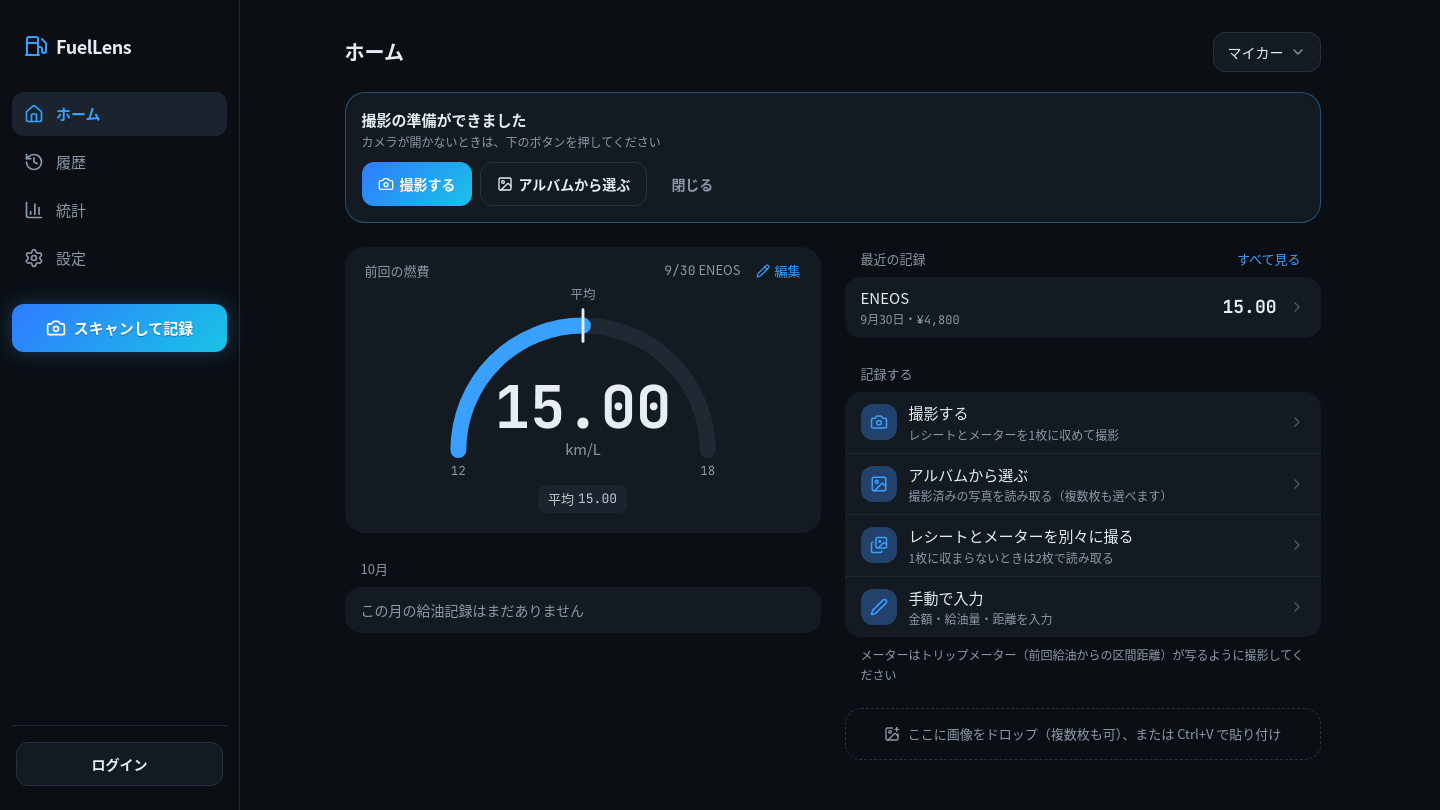
ホーム（/app）のスキャンの入口 › ?action=scan で来たら撮影を試し、「撮影の準備ができました」の案内を出す（ボタンでもう一度開ける・閉じられる）
Click the button "撮影する".
click(416, 184)  # box [362, 162, 472, 206]
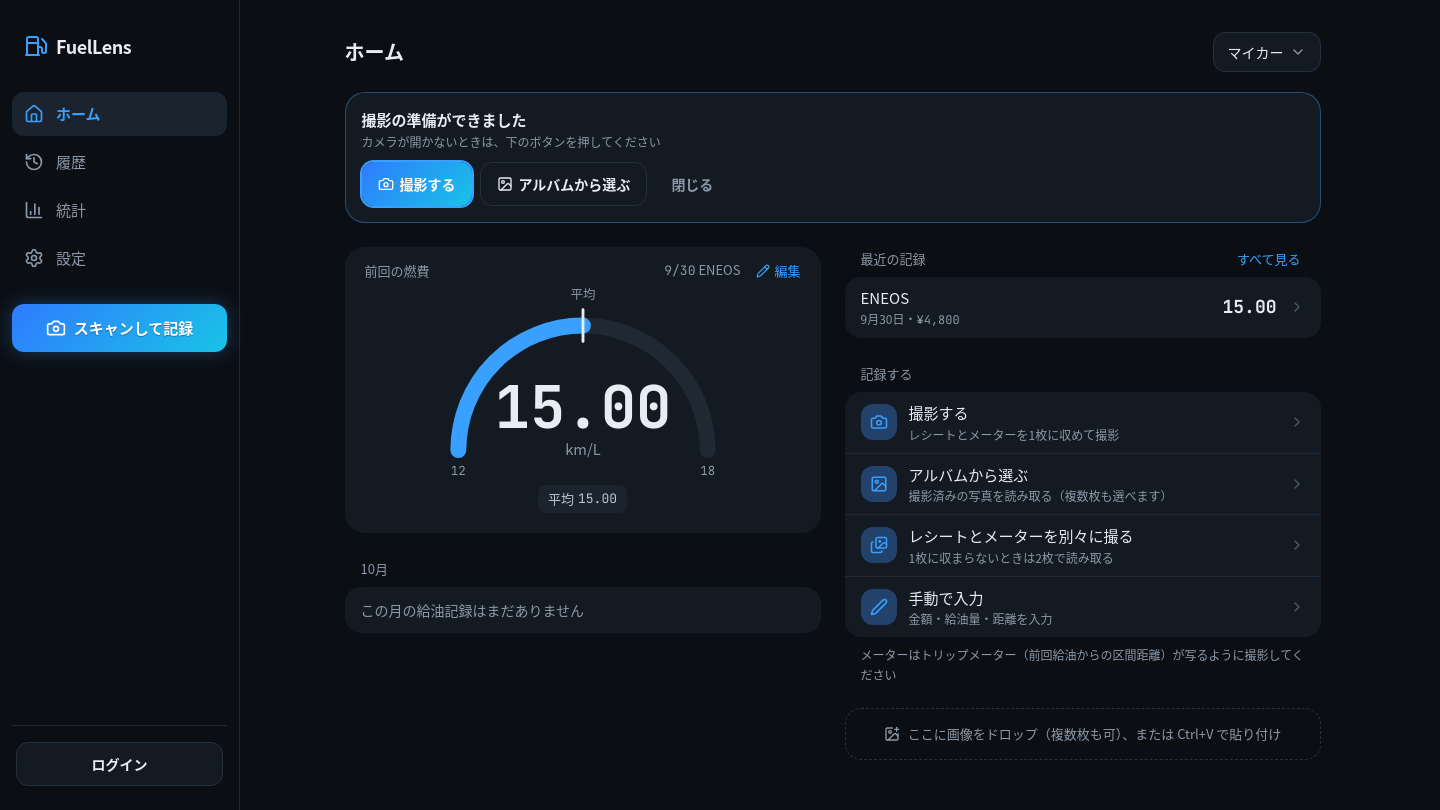
Click the button "アルバムから選ぶ".
click(563, 184)  # box [480, 162, 647, 206]
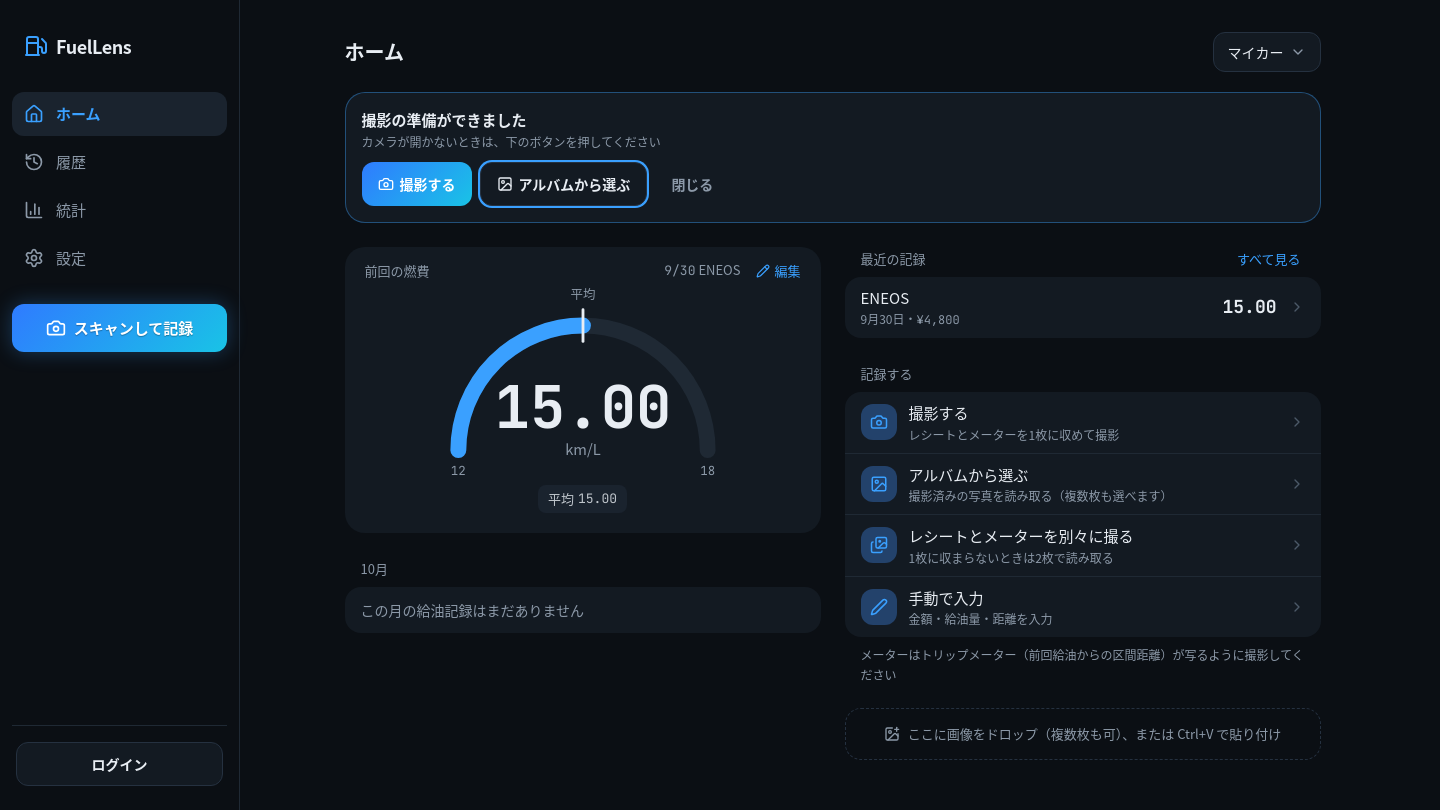
Click the button "閉じる".
click(692, 184)  # box [655, 162, 729, 206]
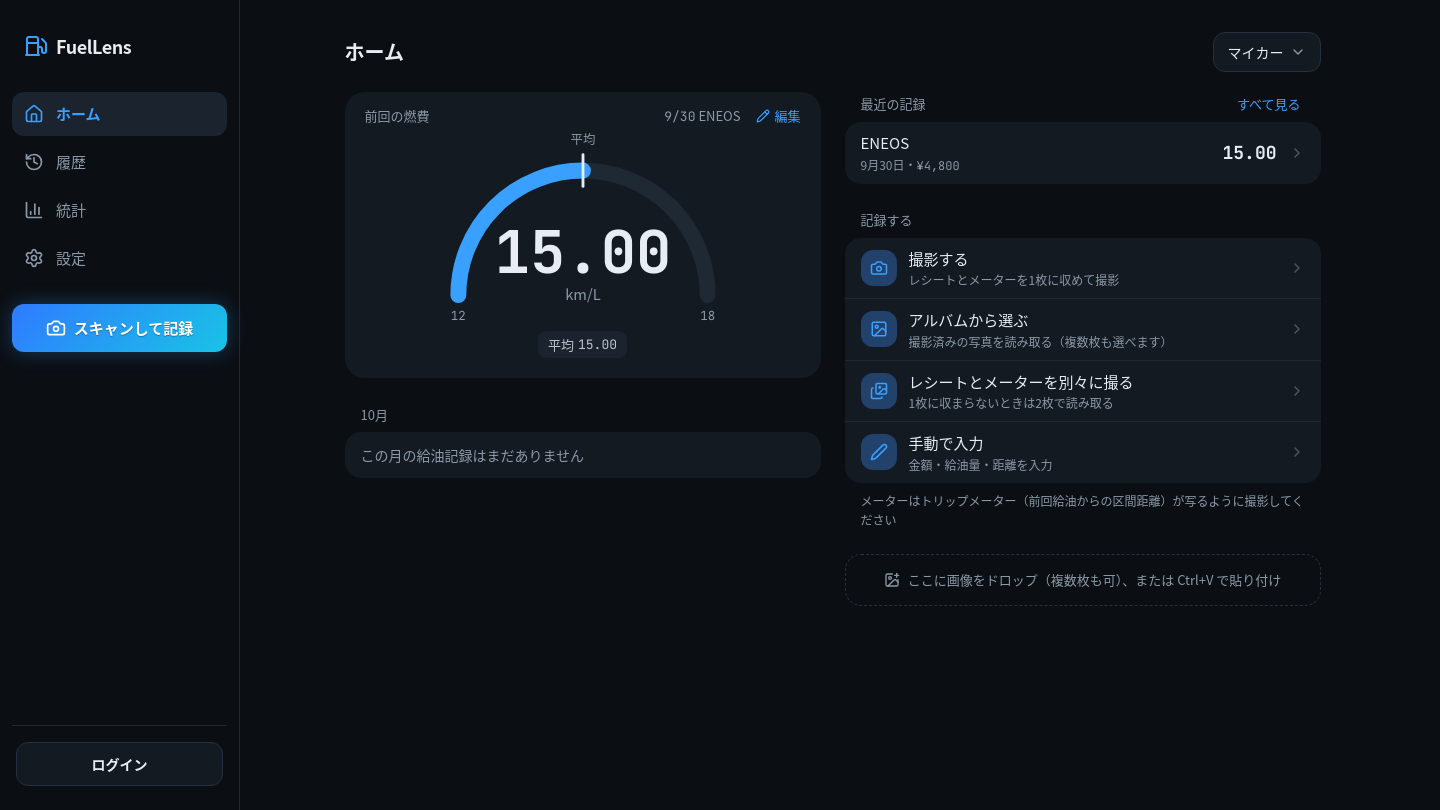
Expected: the heading "撮影の準備ができました" is gone
